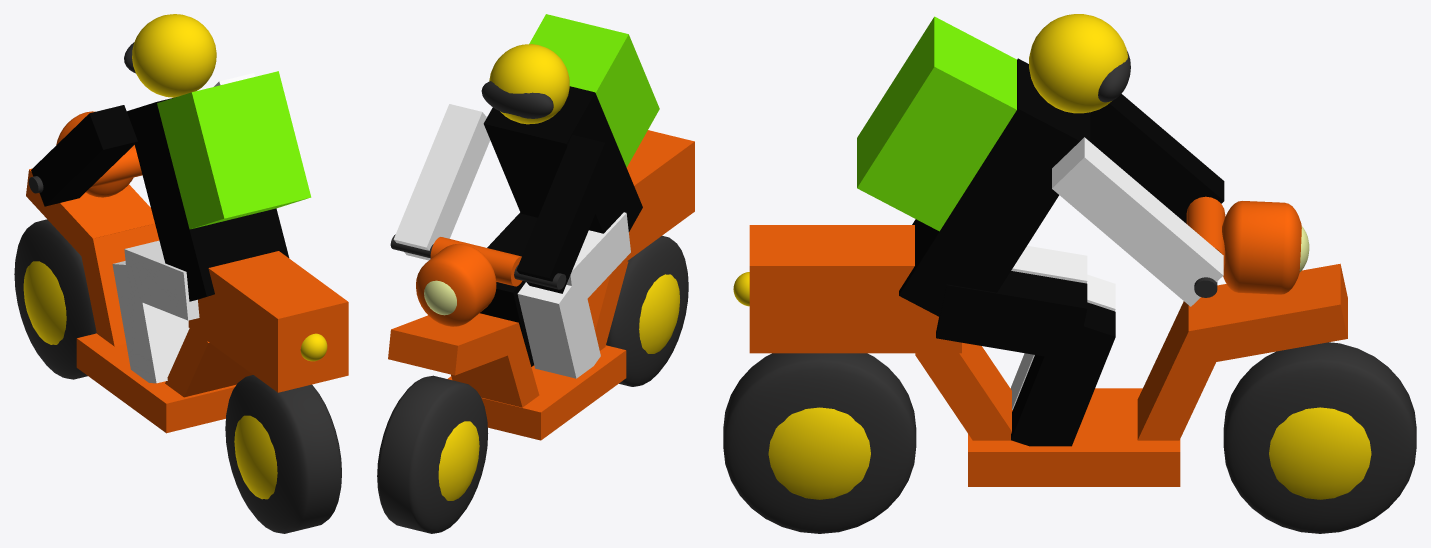
File: deliveryDude_NoLights_recenter.fbx
The picture shows the model from 3 angles, left to right: view 1: azimuth 30°, elevation 25°; view 2: azimuth 150°, elevation 25°; view 3: azimuth 270°, elevation 25°; orthographic projection. The views are drawn at different scales.
Parts seen in each view (by area): view 1: foodBag, base__1_, Capsule, upperBody, Capsule_1, base, rightHand, helmet, leftLeg__1_, base__4_, base__3_, leftLeg (+6 smaller); view 2: Capsule_1, upperBody, foodBag, rightHand, leftHand, base__1_, Capsule, leftLeg__1_, base, base__4_, headLight, helmet (+11 smaller); view 3: Capsule_1, base__1_, Capsule, foodBag, upperBody, base, leftHand, base__4_, rightLeg, rightLeg__1_, rightHand, Sphere_1 (+9 smaller).
Boxes of the visible parts, x1,y1,x2,y2 form: foodBag: (157, 71, 311, 229); base__1_: (188, 251, 348, 392); Capsule: (225, 375, 341, 533); upperBody: (127, 97, 289, 301); Capsule_1: (14, 219, 96, 379); base: (76, 333, 236, 433); rightHand: (31, 105, 137, 206); helmet: (132, 14, 216, 97); leftLeg__1_: (112, 261, 189, 383); base__4_: (26, 168, 154, 255); base__3_: (78, 223, 159, 346); leftLeg: (124, 240, 199, 320); Capsule_1: (377, 375, 488, 533); upperBody: (483, 86, 642, 233); foodBag: (529, 14, 659, 167); rightHand: (516, 134, 618, 293); leftHand: (393, 104, 490, 260); base__1_: (624, 130, 694, 260); Capsule: (606, 235, 688, 386); leftLeg__1_: (517, 278, 600, 378); base: (448, 345, 626, 440); base__4_: (388, 313, 518, 375); headLight: (416, 243, 496, 326); helmet: (489, 44, 569, 124); Capsule_1: (1223, 342, 1416, 533); base__1_: (749, 225, 961, 353); Capsule: (723, 353, 916, 533); foodBag: (857, 16, 1016, 231); upperBody: (899, 58, 1090, 316); base: (968, 388, 1180, 486); leftHand: (1052, 137, 1223, 306); base__4_: (1189, 263, 1347, 365); rightLeg: (936, 271, 1087, 361); rightLeg__1_: (1011, 302, 1115, 446); rightHand: (1090, 94, 1224, 223); Sphere_1: (1269, 407, 1371, 499).
Bounding box in the file's own units: 402 × 938 × 1164.
